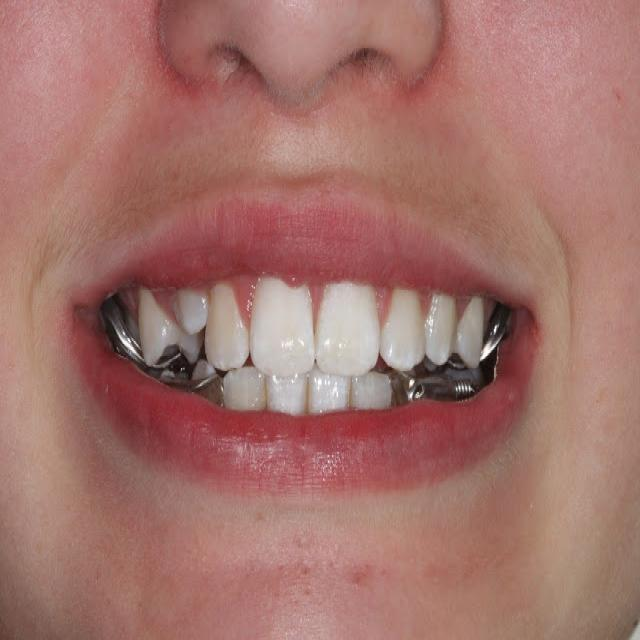tooth: (251, 284, 318, 374), (312, 287, 383, 371), (138, 289, 200, 362), (205, 284, 252, 368), (382, 289, 426, 377), (425, 290, 460, 368), (350, 368, 398, 422), (222, 371, 267, 422), (456, 296, 485, 368), (309, 371, 352, 418), (267, 377, 307, 425), (176, 290, 212, 341)
